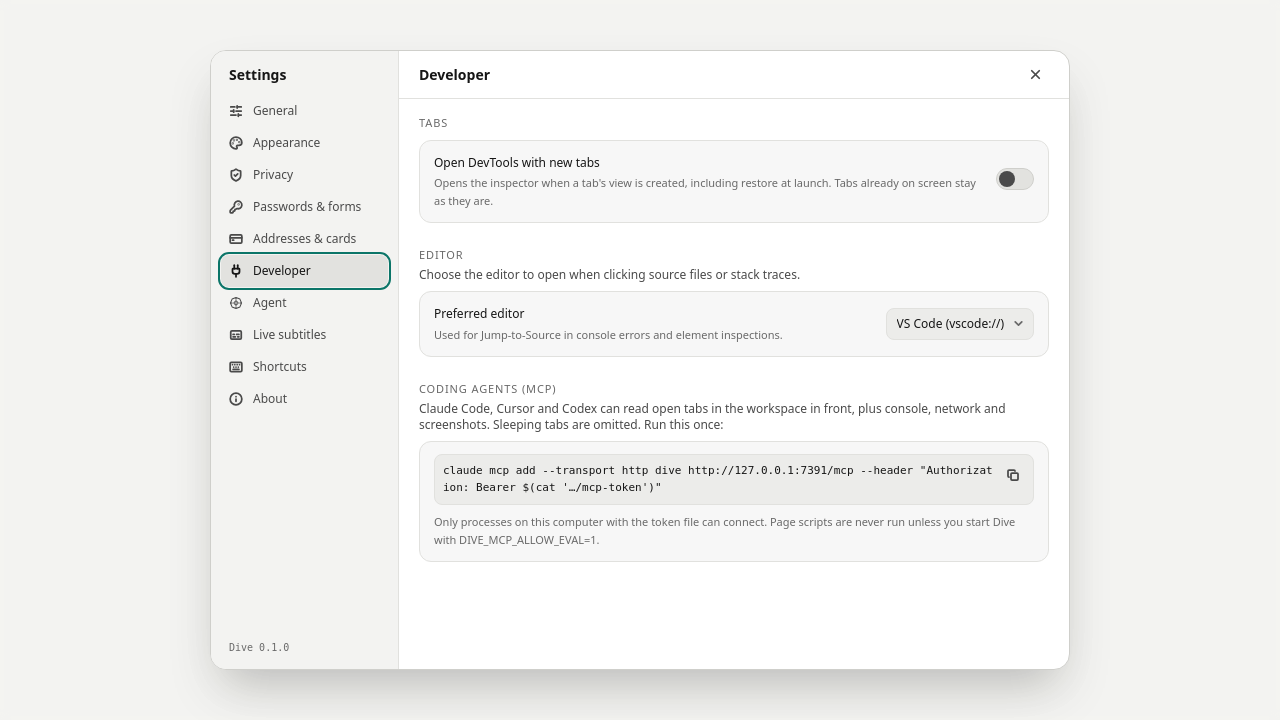
About and updates › shows the MCP command with a short token path but copies the full one
Check: the text "claude mcp add" shows "…/mcp-token", box [443,464,993,494]
Click the button named "Copy command" at [1013, 475], box [1001,463,1025,487]
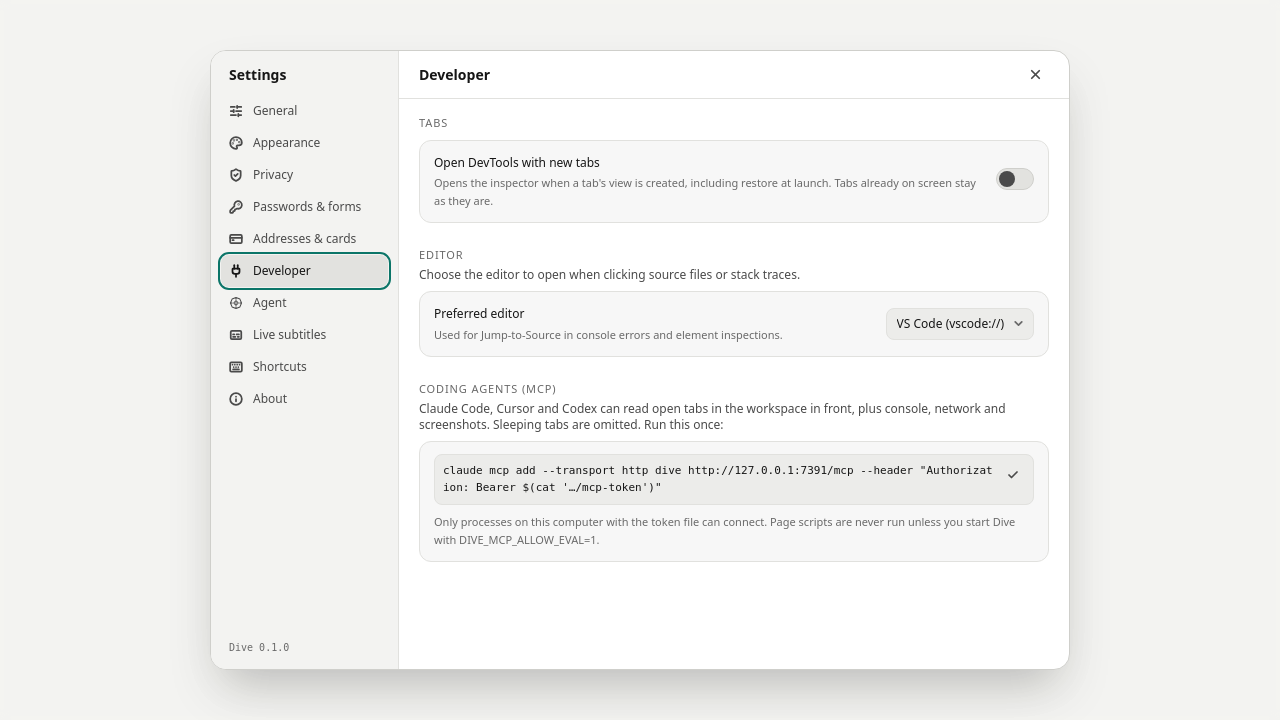
Check: the button named "Copied" is shown, box [1001,463,1025,487]
